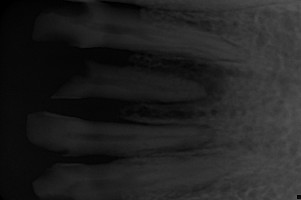Furcation Involvement: (145, 60, 228, 106)
